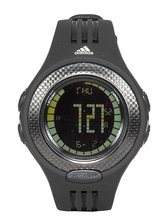watch: (13, 11, 159, 222)
